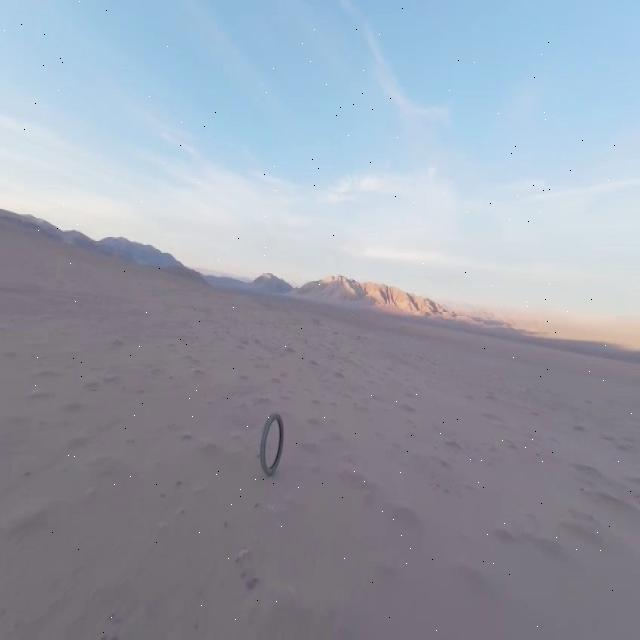Tire: (260, 412, 284, 475)
